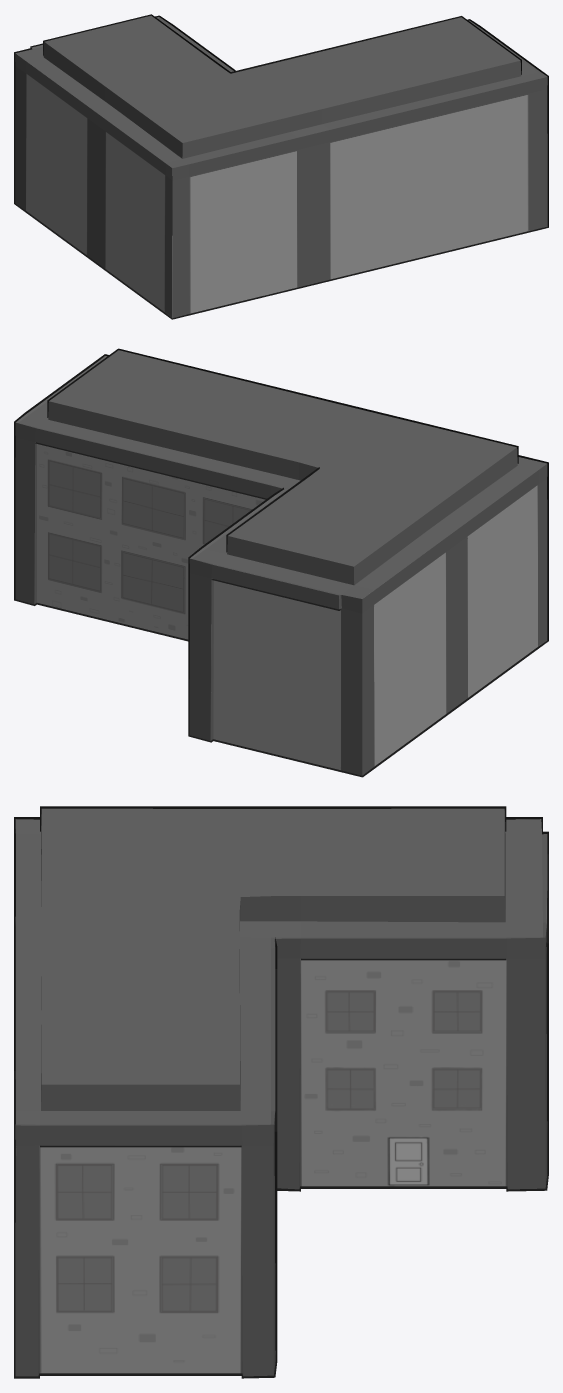
Rendered from Edificio.fbx.
The picture shows the model from 3 angles, top to bottom: view 1: azimuth 30°, elevation 25°; view 2: azimuth 150°, elevation 25°; view 3: azimuth 270°, elevation 25°; orthographic projection. The views are drawn at different scales.
Visible parts, largest first — view 1: edificio; view 2: edificio; view 3: edificio.
Part boxes in pixels (left/top/right/bottom): edificio: left=14, top=14, right=548, bottom=319; edificio: left=14, top=348, right=548, bottom=777; edificio: left=14, top=806, right=548, bottom=1378.
Bounding box in the file's own units: 577 × 244 × 424.
